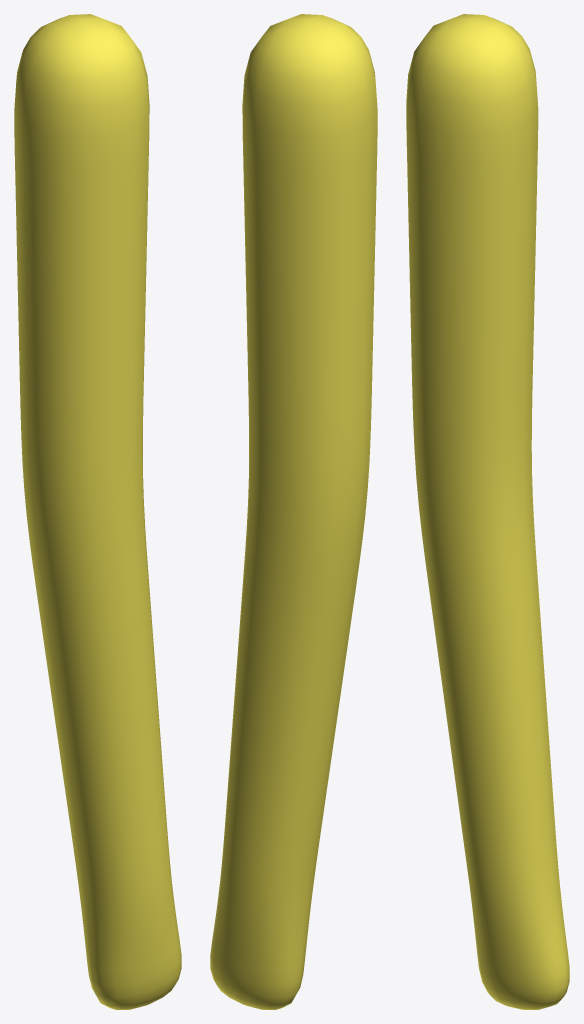
The model's file is SM_Partygoer_Arm.fbx.
The picture shows the model from 3 angles, left to right: view 1: azimuth 30°, elevation 25°; view 2: azimuth 150°, elevation 25°; view 3: azimuth 330°, elevation 25°; orthographic projection. The views are drawn at different scales.
Visible parts, largest first — view 1: SM_Partygoer_Arm; view 2: SM_Partygoer_Arm; view 3: SM_Partygoer_Arm.
Part boxes in pixels (x1=…): SM_Partygoer_Arm: x1=14, y1=14, x2=181, y2=1009; SM_Partygoer_Arm: x1=210, y1=14, x2=377, y2=1009; SM_Partygoer_Arm: x1=406, y1=14, x2=569, y2=1009.
Size of the model in its own units: 10.56 by 65.03 by 7.95.
